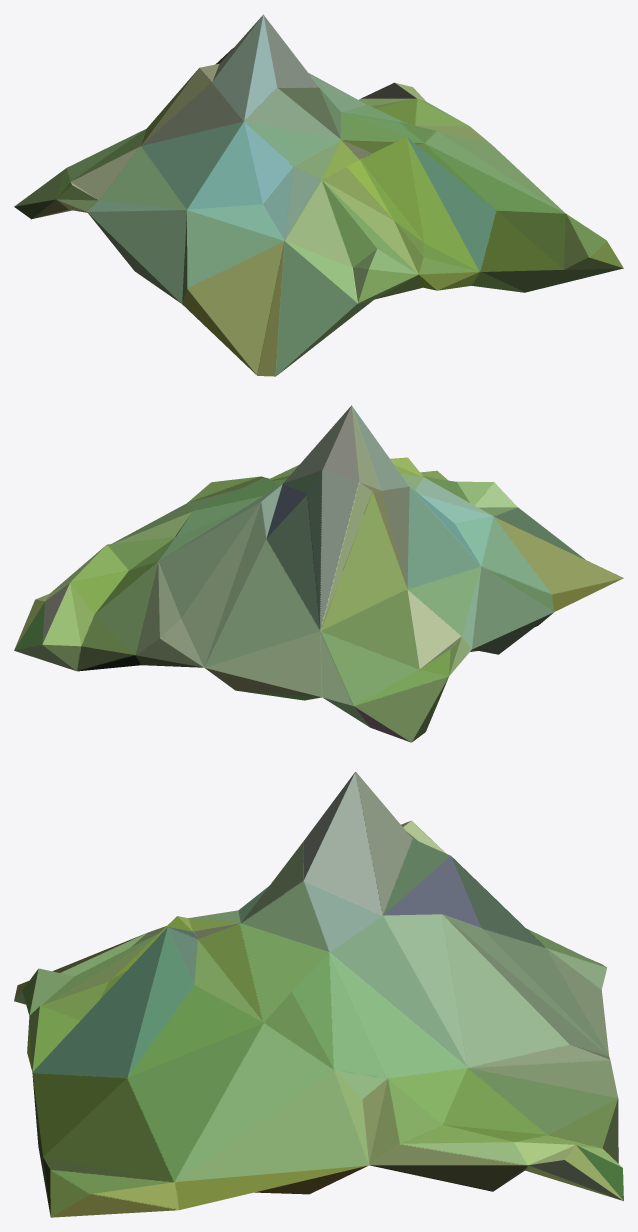
File: mountain.fbx
3 views of the same model, one above another, from view 1: azimuth 30°, elevation 25°; view 2: azimuth 150°, elevation 25°; view 3: azimuth 270°, elevation 25° (orthographic). The views are drawn at different scales.
Parts seen in each view (by area): view 1: Mesh_0; view 2: Mesh_0; view 3: Mesh_0.
Part boxes in pixels (bbox=[...]): Mesh_0: bbox=[14, 14, 623, 376]; Mesh_0: bbox=[14, 405, 623, 742]; Mesh_0: bbox=[14, 771, 623, 1217].
Bounding box in the file's own units: 115 × 65.74 × 119.
1 material, 1 textured.
